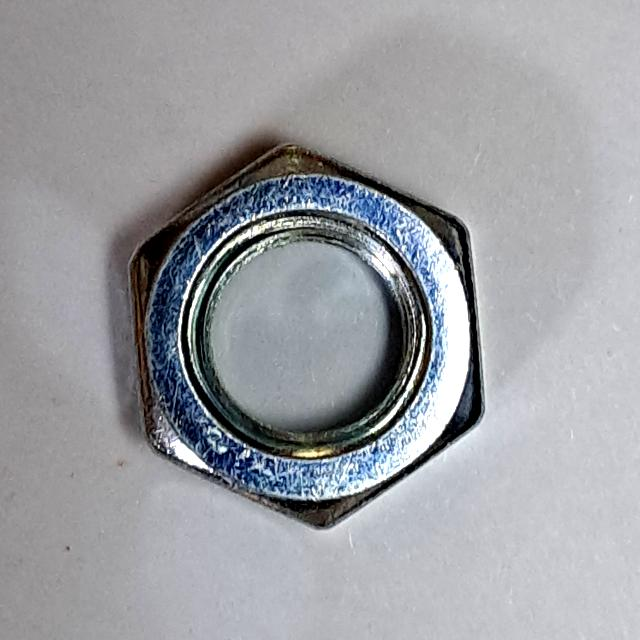Excellent: (119, 126, 496, 547)
